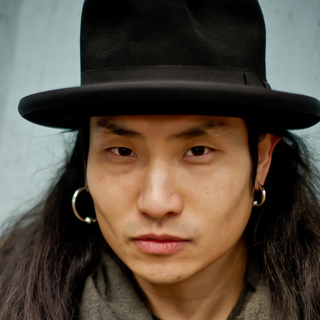eye: (100, 141, 141, 164), (177, 142, 222, 162)
